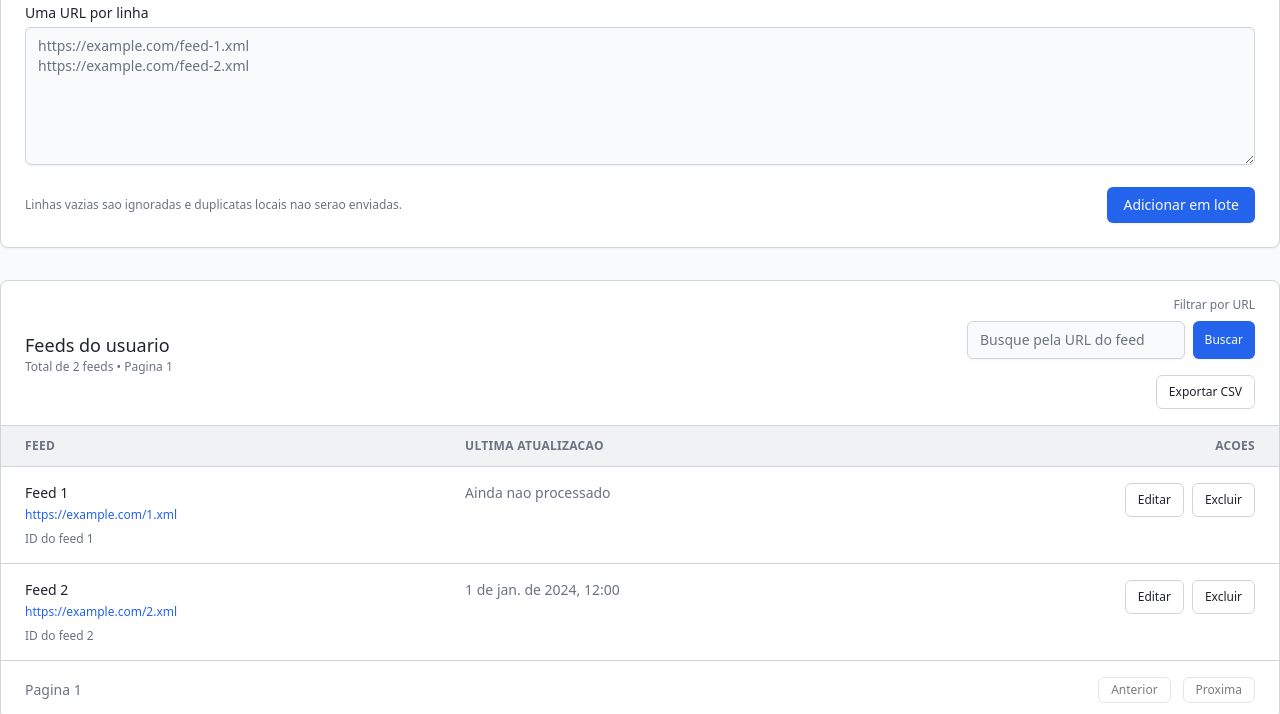
Scenario: FeedsPage › exports all feeds as CSV
(page scrolled)
What coordinates should you click on to do the following:
click the button "Exportar CSV"
I would click on:
 (1205, 392)
Its box is [1156,375,1255,409].
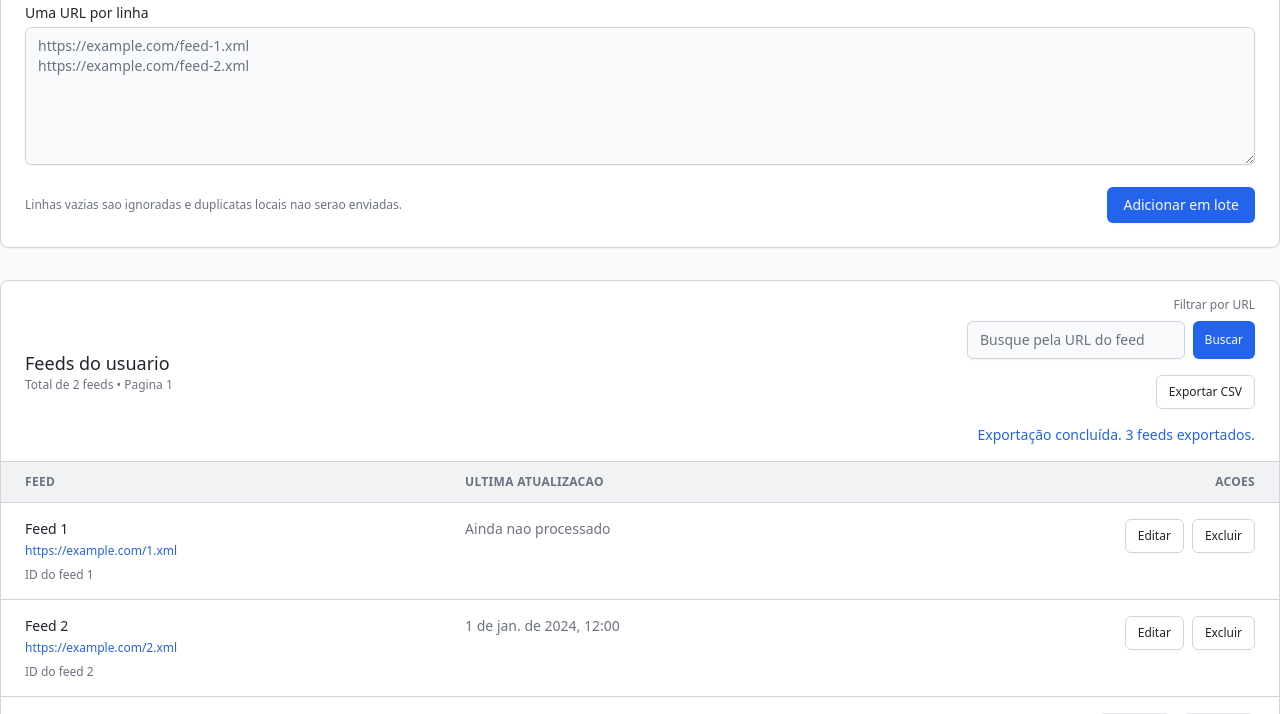
expect the text "Exportação concluída. 3 feeds exportados." is shown: met, box [978,425,1255,445]
